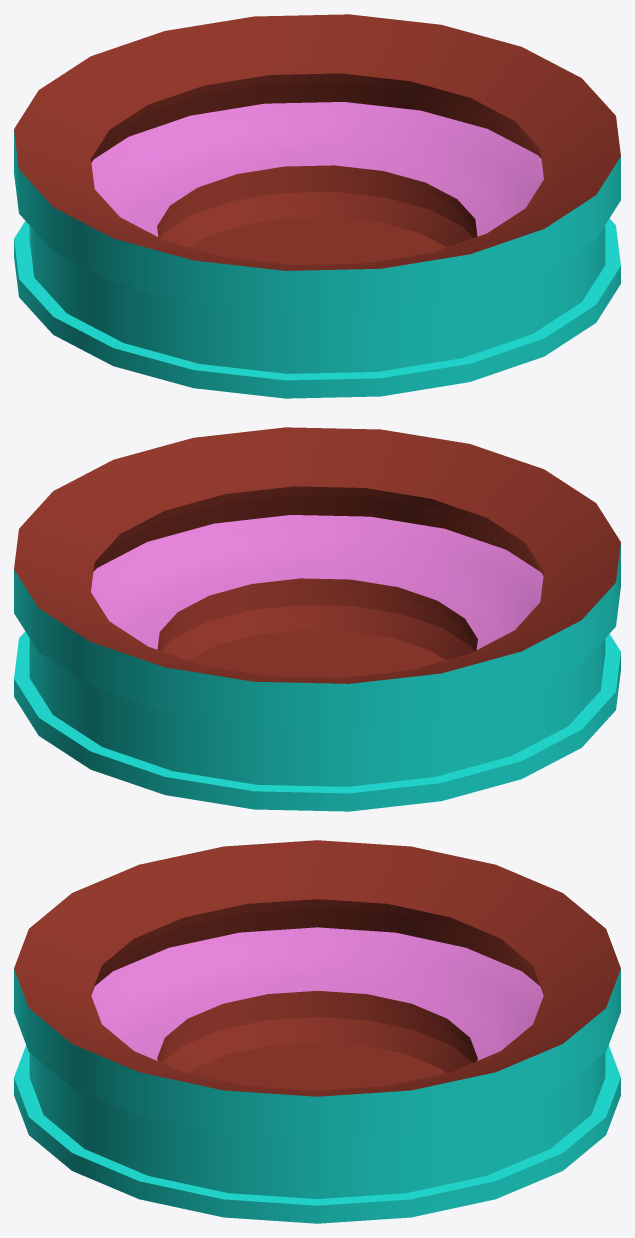
Rendered from Tribune.FBX.
3 views of the same model, one above another, from view 1: azimuth 30°, elevation 25°; view 2: azimuth 150°, elevation 25°; view 3: azimuth 270°, elevation 25° (orthographic).
Visible parts, largest first — view 1: Tube001; view 2: Tube001; view 3: Tube001.
Part boxes in pixels (<box>): Tube001: <box>14,14,620,398</box>; Tube001: <box>14,427,620,811</box>; Tube001: <box>14,840,620,1223</box>.
Size of the model in its own units: 48469 by 48469 by 12163.
